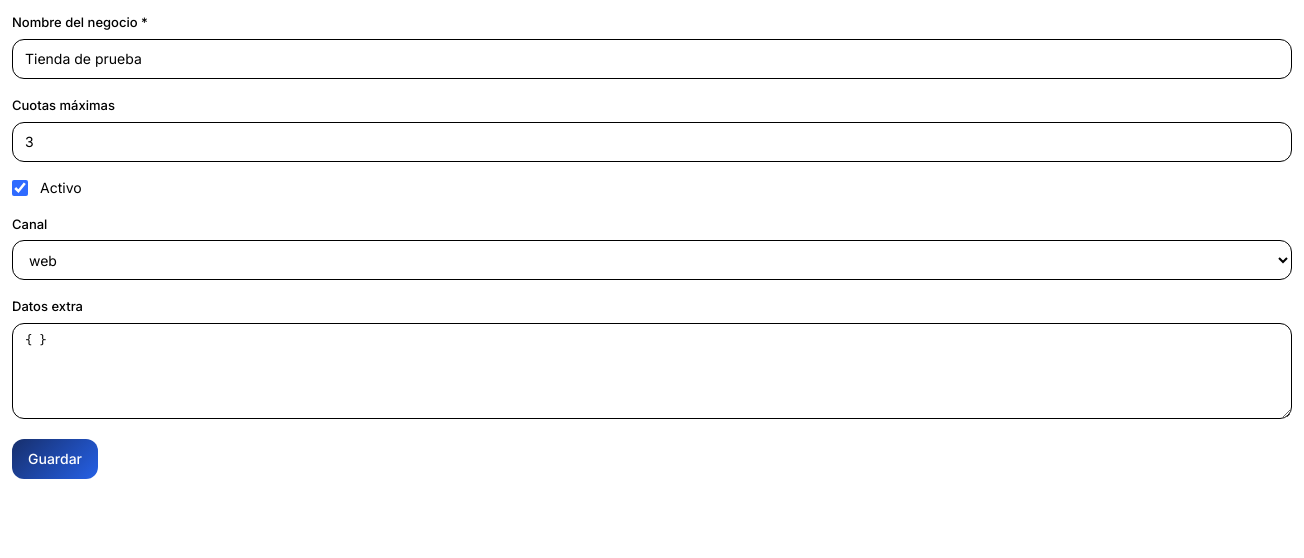
JsonSchemaForm (HU-UI-04) › muestra los errores por campo y el mensaje del backend
What coordinates should you click on to do the following:
click the button "Guardar"
I would click on:
 (55, 459)
Its box is [12,439,98,479].
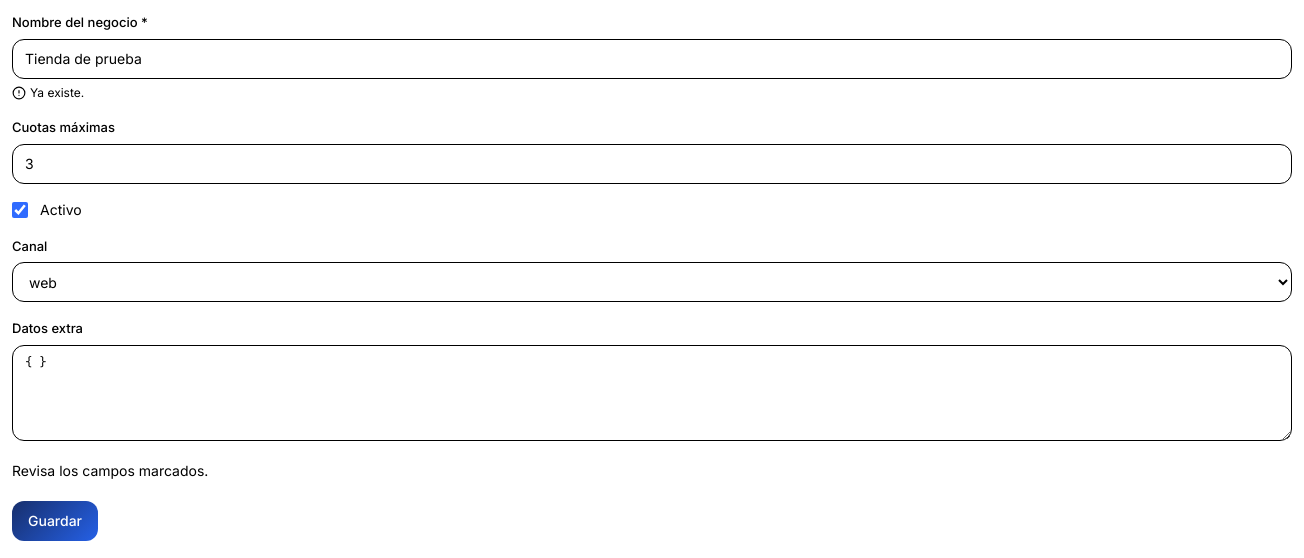
Now the text "Ya existe." is shown, box [12,85,84,100]
Now the text "Revisa los campos marcados." is shown, box [12,462,208,479]
